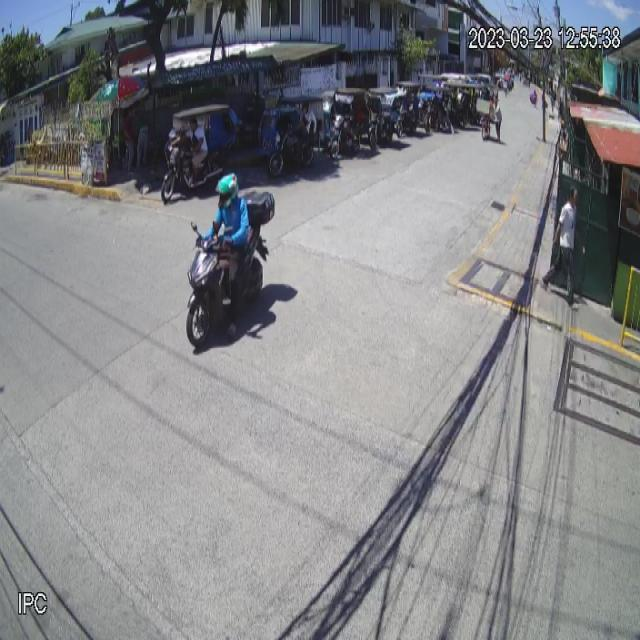Motorcycle: (181, 186, 280, 363)
